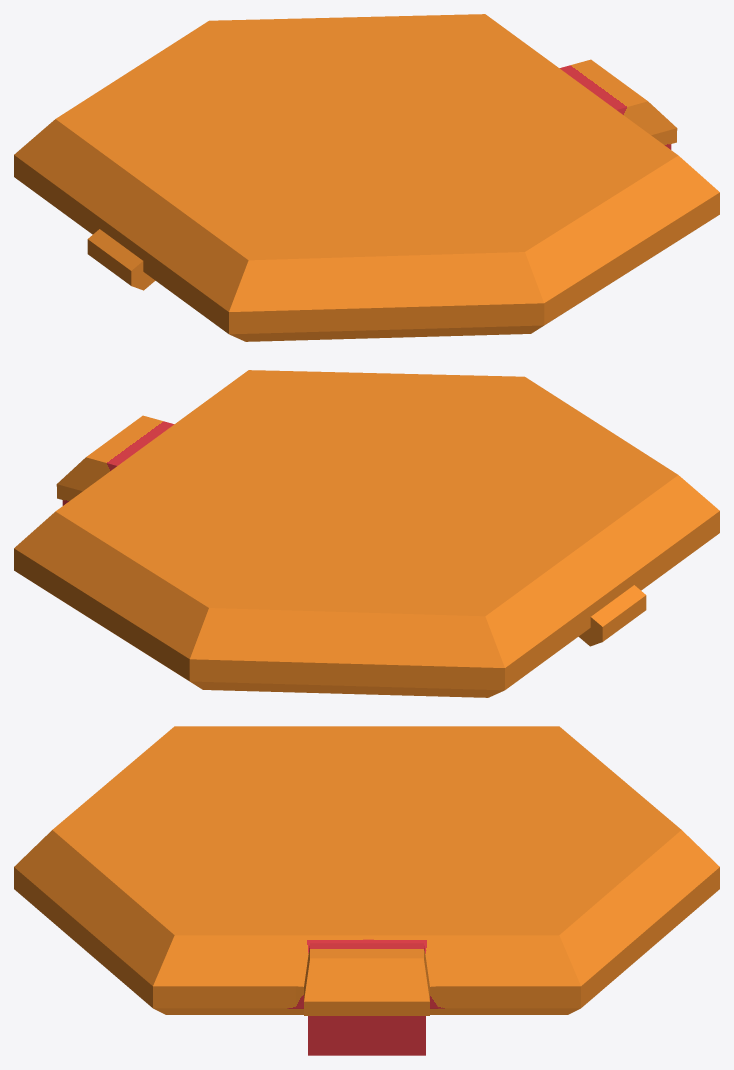
Rendered from Compost_Tap.fbx.
The picture shows the model from 3 angles, top to bottom: view 1: azimuth 30°, elevation 25°; view 2: azimuth 150°, elevation 25°; view 3: azimuth 270°, elevation 25°; orthographic projection.
Visible parts, largest first — view 1: Compost_Tap; view 2: Compost_Tap; view 3: Compost_Tap.
Part boxes in pixels (x1,y1,x2,y2): Compost_Tap: (14,14,719,341); Compost_Tap: (14,370,719,697); Compost_Tap: (14,726,719,1055).
Size of the model in its own units: 308 by 50.99 by 353.
